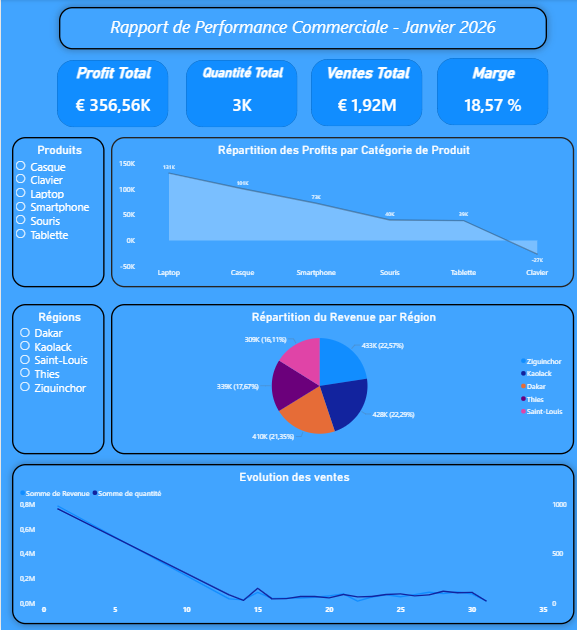

Layout of this report page (visuals, bound fields, positions):
{"tool":"powerbi","page":{"name":"Dashbord","canvas":[1280,1400],"ordinal":0},"visuals":[{"type":"shape","box":[124.2,135.9,246.7,149.1],"z":0},{"type":"textbox","box":[128.1,18.5,1080.5,93.8],"z":1000},{"type":"cardVisual","title":"Profit Total","fields":{"Data":["Mesure.total_profit"]},"box":[131.9,144.9,230,137.5],"z":2000},{"type":"shape","box":[409.7,134.3,246.7,149.1],"z":3000},{"type":"cardVisual","title":"Quantité Total","fields":{"Data":["Mesure.total_qty"]},"box":[428,146.1,213.3,137.5],"z":4000},{"type":"shape","box":[687.8,132.1,246.7,149.1],"z":5000},{"type":"cardVisual","title":"Ventes Total","fields":{"Data":["Mesure.total_ventes"]},"box":[704.5,143.6,213.3,137.5],"z":6000},{"type":"shape","box":[965.9,131.8,246.7,149.1],"z":7000},{"type":"cardVisual","title":"Marge","fields":{"Data":["Mesure.marge_%"]},"box":[982.6,143.4,213.3,137.5],"z":8000},{"type":"areaChart","title":"Répartition des Profits par Catégorie de Produit","fields":{"Category":["Sheet1.produit"],"Y":["Sum(Sheet1.Profit)"]},"box":[244.4,305.1,1026.4,332.9],"z":9000},{"type":"pieChart","title":"Répartition du Revenue par  Région","fields":{"Category":["Sheet1.region"],"Y":["Sum(Sheet1.Revenue)"]},"box":[244.4,676.3,1026.4,332.9],"z":10000},{"type":"listSlicer","title":"Produits","fields":{"Values":["Sheet1.produit"]},"box":[25.1,305.1,204.7,332.9],"z":11000},{"type":"listSlicer","title":"Régions","fields":{"Values":["Sheet1.region"]},"box":[25.1,676.3,204.7,332.9],"z":12000},{"type":"lineChart","title":"Evolution des ventes","fields":{"Y":["Sum(Sheet1.Revenue)"],"Y2":["Sum(Sheet1.Profit)"],"Category":["Sheet1.date.Variation.Hiérarchie de dates.Jour"]},"box":[25.1,1030.3,1245.7,355.3],"z":13000}]}

Visuals, with their boxes in screenshot pixels (x1, y1, x2, y2), scaled from the page's 1280x1400 canvas onto the 577x630 screenshot:
shape: [left=56, top=61, right=167, bottom=128]
textbox: [left=58, top=8, right=545, bottom=51]
"Profit Total" cardVisual: [left=59, top=65, right=163, bottom=127]
shape: [left=185, top=60, right=296, bottom=128]
"Quantité Total" cardVisual: [left=193, top=66, right=289, bottom=128]
shape: [left=310, top=59, right=421, bottom=127]
"Ventes Total" cardVisual: [left=318, top=65, right=414, bottom=126]
shape: [left=435, top=59, right=547, bottom=126]
"Marge" cardVisual: [left=443, top=65, right=539, bottom=126]
"Répartition des Profits par Catégorie de Produit" areaChart: [left=110, top=137, right=573, bottom=287]
"Répartition du Revenue par  Région" pieChart: [left=110, top=304, right=573, bottom=454]
"Produits" listSlicer: [left=11, top=137, right=104, bottom=287]
"Régions" listSlicer: [left=11, top=304, right=104, bottom=454]
"Evolution des ventes" lineChart: [left=11, top=464, right=573, bottom=624]
